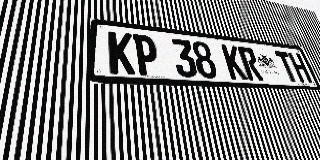3: (171, 38, 198, 78)
8: (191, 41, 218, 79)
H: (287, 52, 313, 83)
K: (108, 31, 135, 75), (221, 44, 248, 80)
P: (133, 34, 160, 76)
R: (237, 46, 264, 81)
T: (274, 51, 300, 82)
